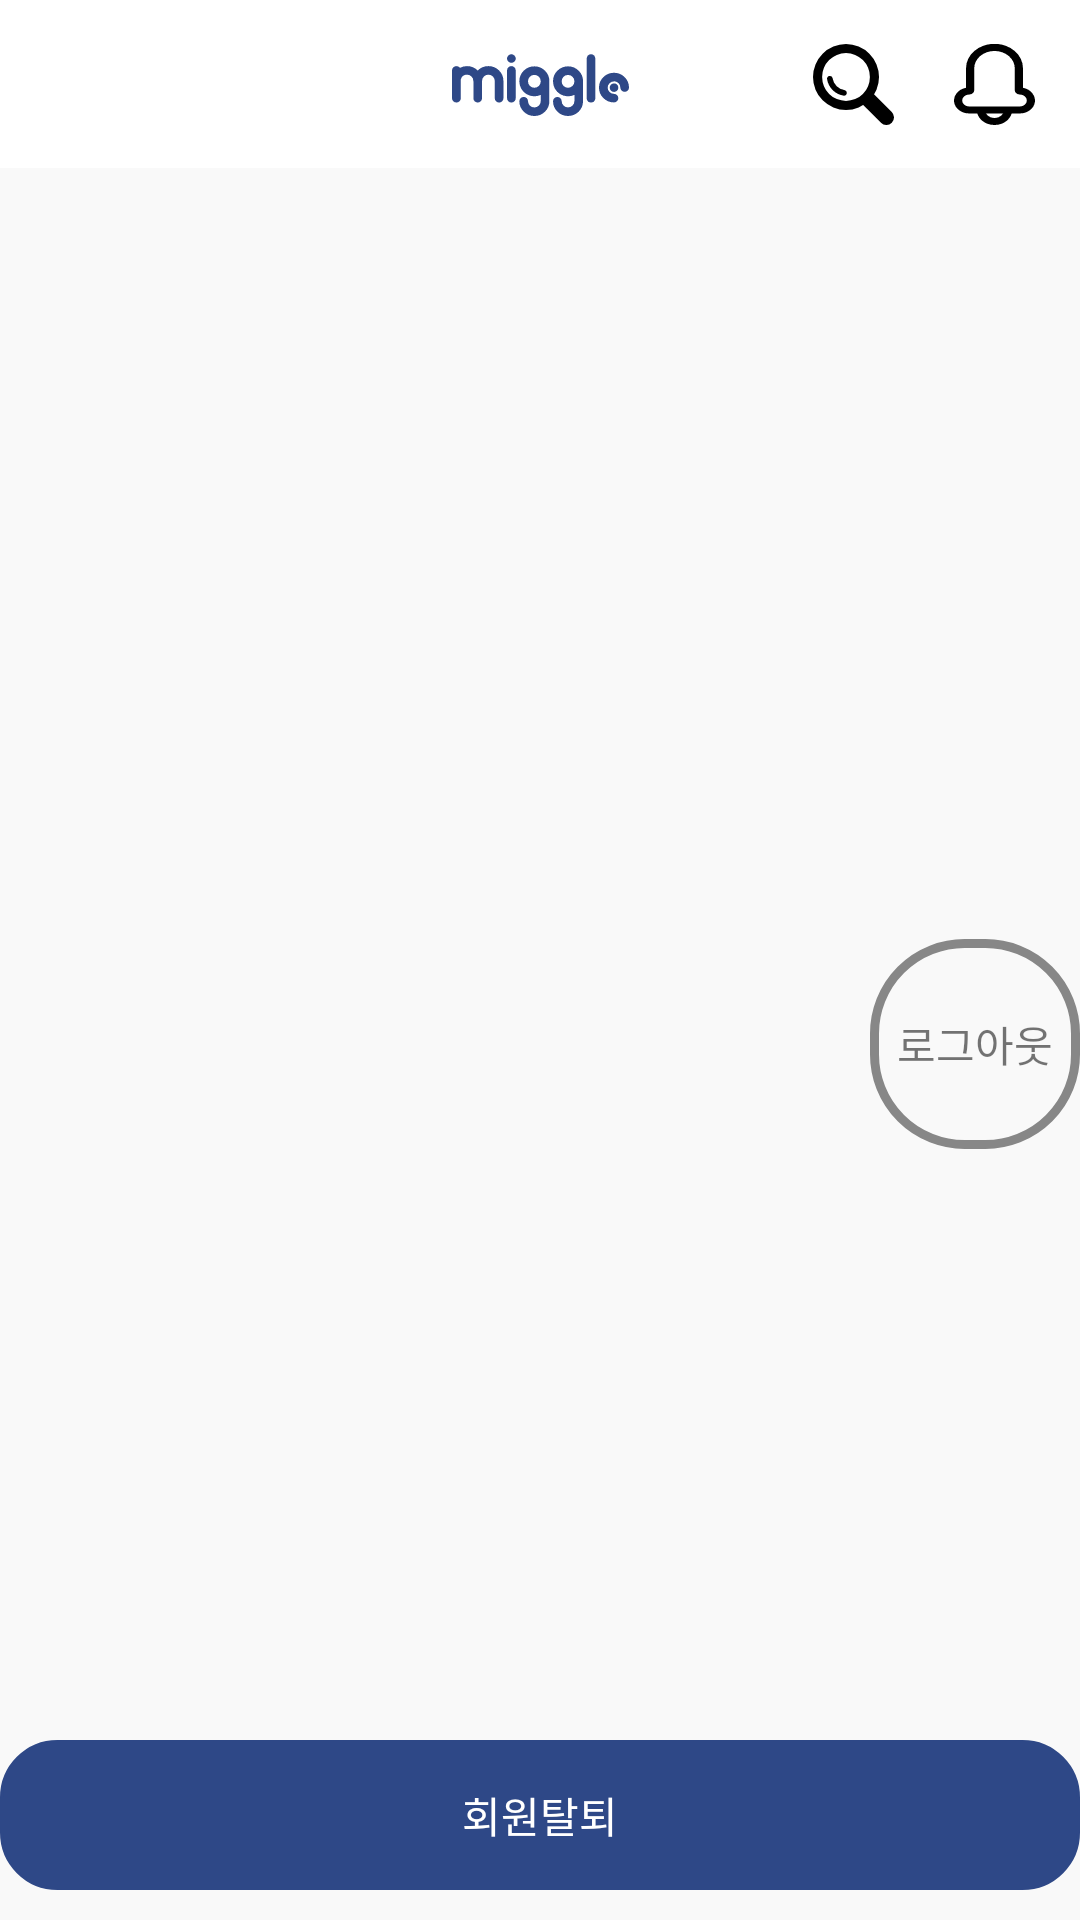

Named icons in this screenshot (1080w x 1920h) and their centers, [x,y]:
bell: [994,84]
search: [853,84]
